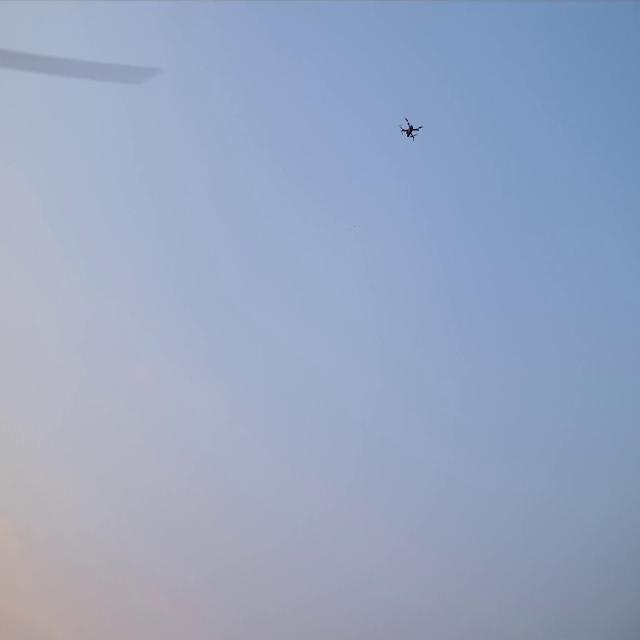UAV: (402, 120, 421, 140)
